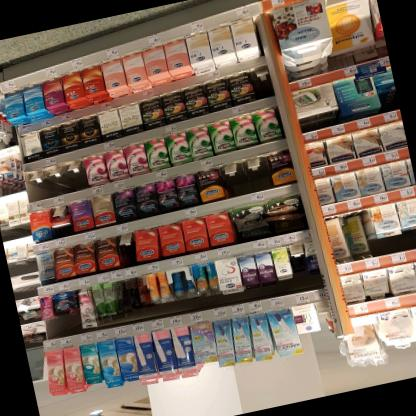empty_space: (217, 160, 249, 199), (289, 242, 313, 293), (112, 279, 138, 326), (242, 154, 273, 193), (314, 299, 337, 347), (63, 158, 89, 193), (24, 168, 50, 203), (250, 64, 275, 100), (115, 232, 139, 269), (44, 163, 68, 198), (13, 282, 43, 300)
